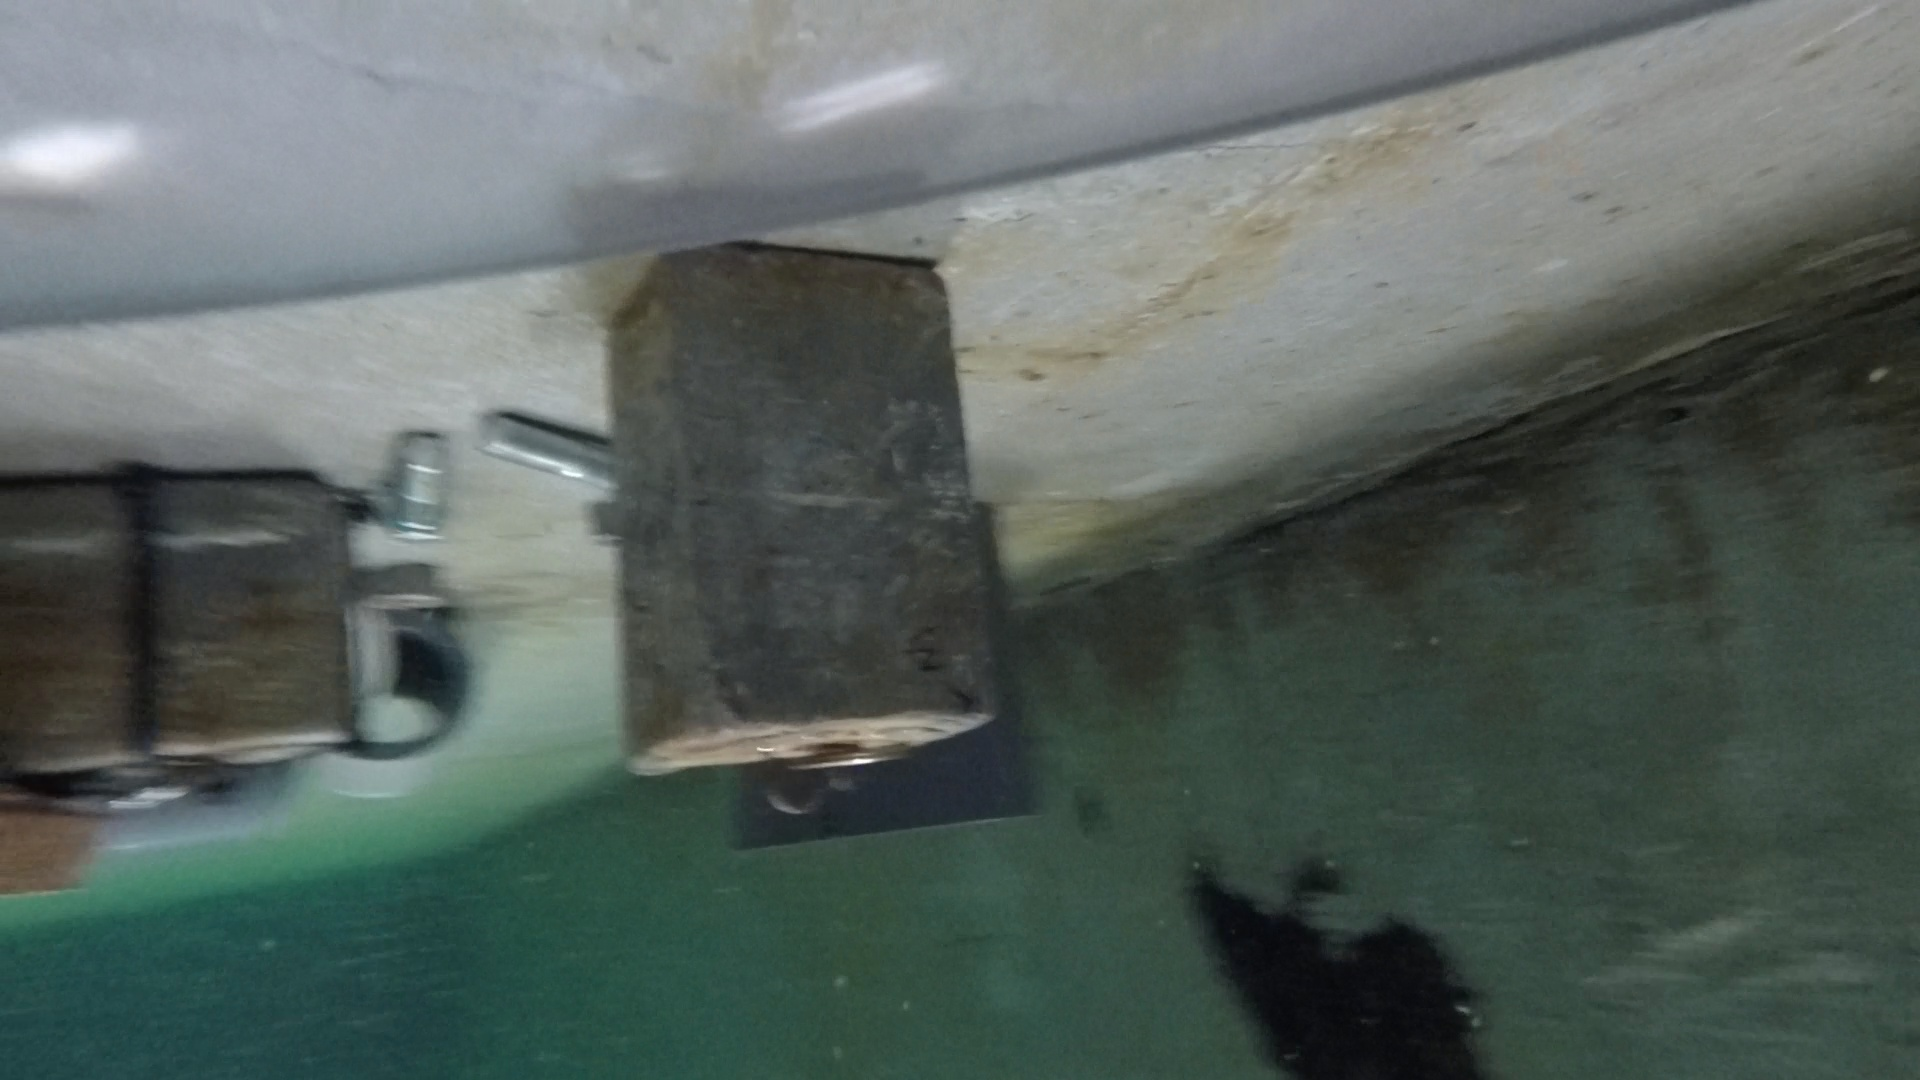bolt: (473, 409, 612, 493), (378, 431, 454, 543)
led_block: (603, 248, 1000, 804), (1, 462, 352, 811)
pipe: (3, 1, 1735, 334), (723, 501, 1043, 851), (315, 611, 472, 802), (102, 767, 287, 855)
